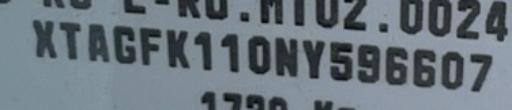letter: (56, 15, 84, 63), (327, 36, 355, 84), (467, 47, 495, 95), (28, 16, 58, 59), (244, 31, 272, 77), (272, 33, 300, 79), (300, 33, 326, 82), (164, 27, 192, 72), (84, 19, 112, 62), (110, 22, 138, 65), (382, 43, 410, 86), (411, 45, 439, 88), (136, 24, 162, 69), (356, 40, 382, 85), (216, 30, 242, 74), (190, 28, 214, 73), (440, 47, 464, 89)
